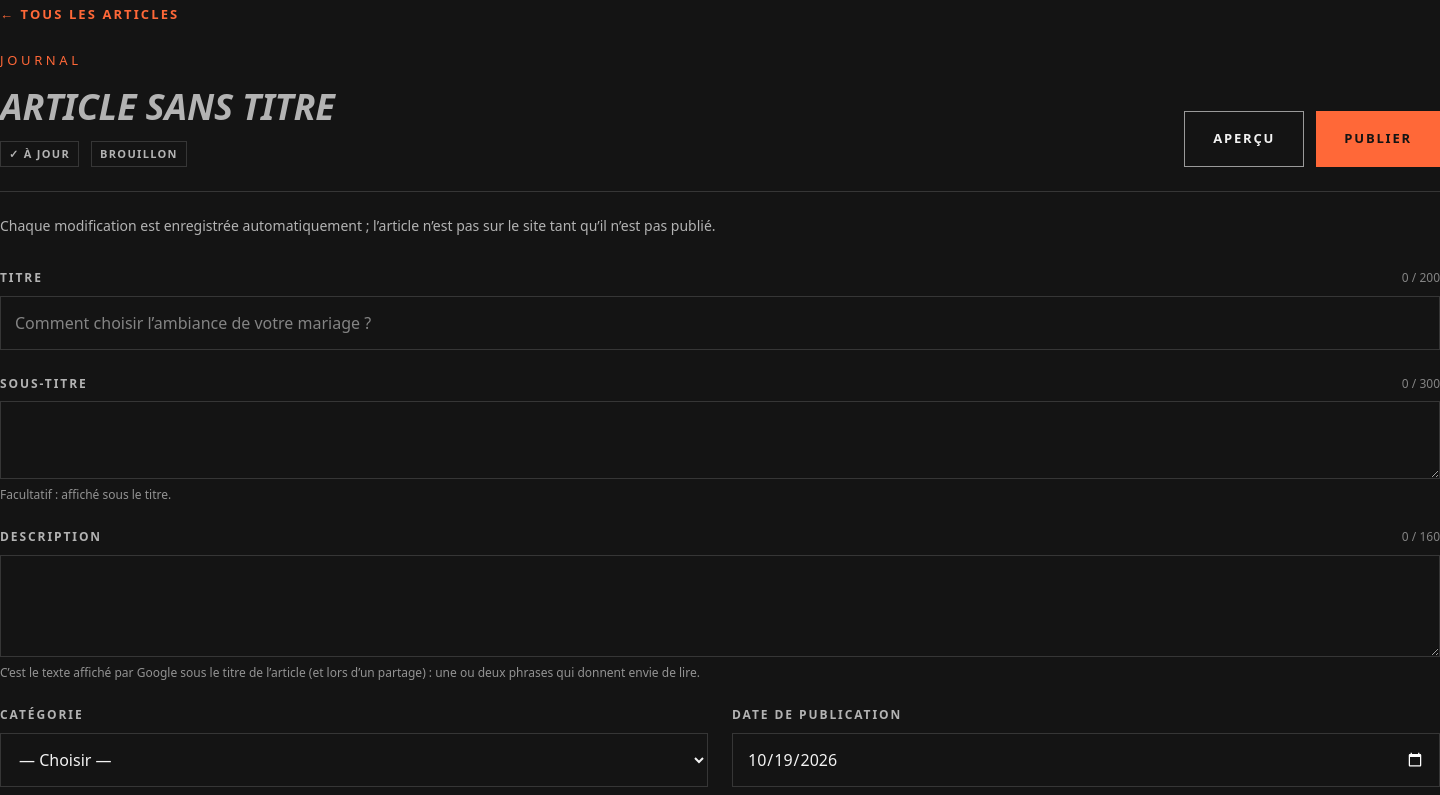
it: EditeurArticle — enregistrement automatique › « Tous les articles » enregistre ce qui attend avant de partir ; avertit seulement si l’enregistrement échoue
The width and height of the screenshot is (1440, 795).
Later steps or results of the test are not shown.
Type "A" into the field labelled "Titre". click: (720, 323)
box: [0, 296, 1439, 350]
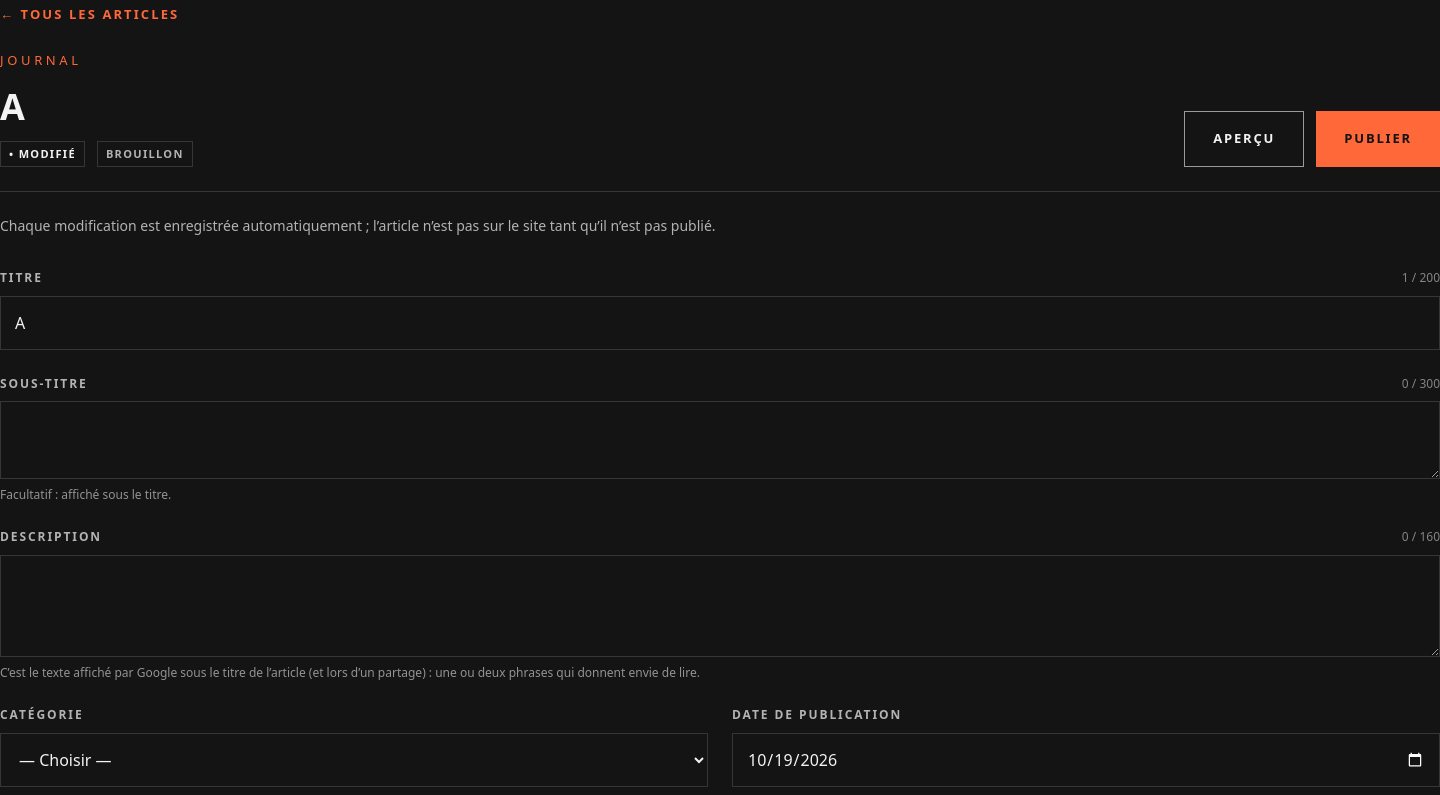
Click the link "← Tous les articles". click: (90, 14)
box: [0, 5, 179, 23]
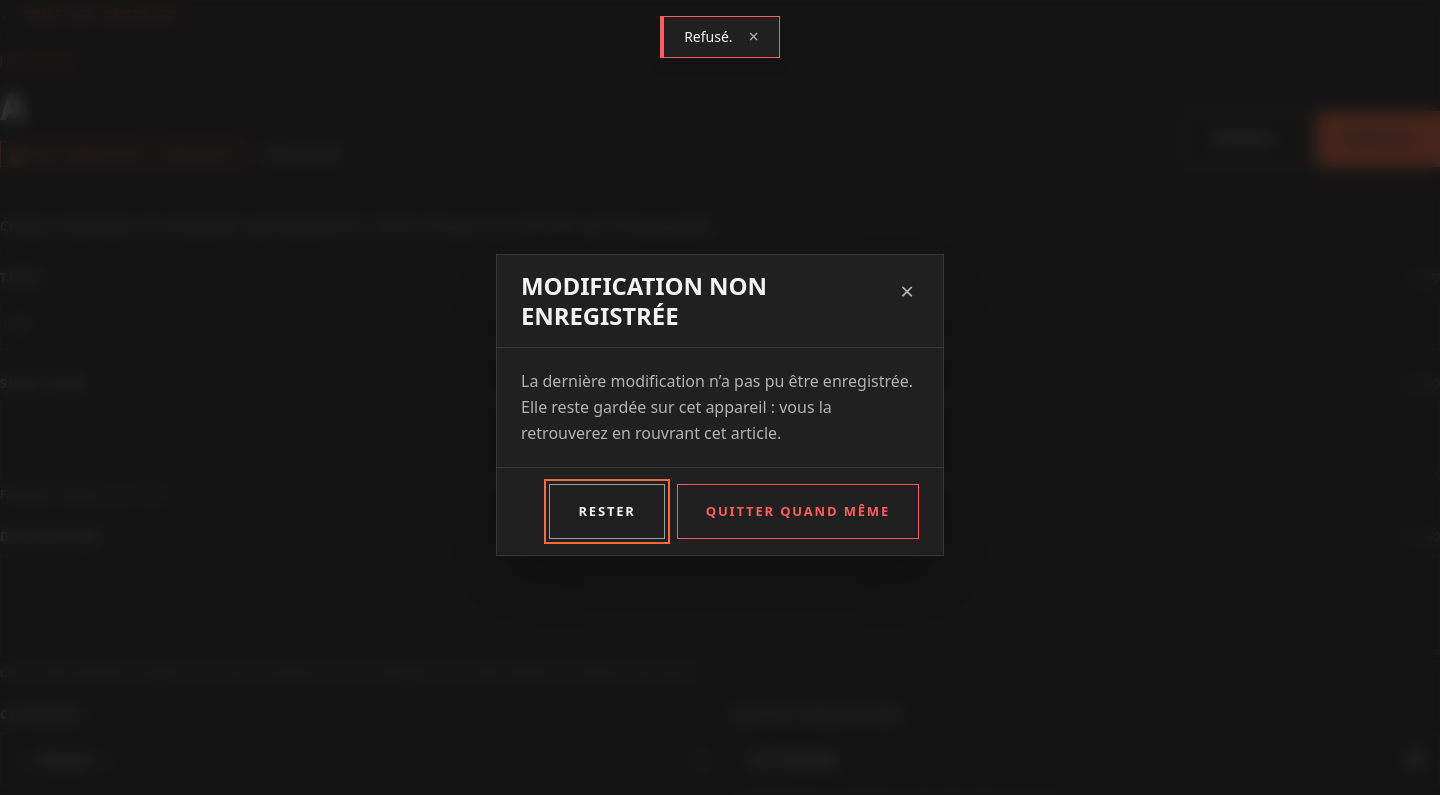
Now the dialog "Modification non enregistrée" is shown, box [496, 254, 944, 556]
